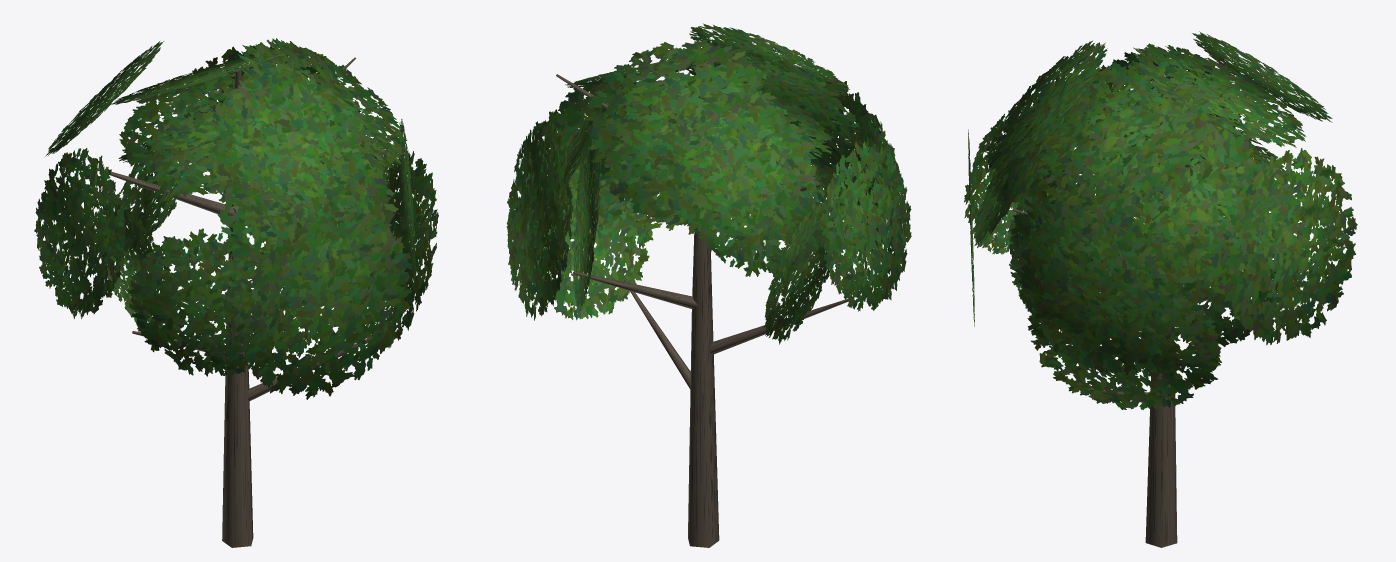
The model's file is Oak_LOD1.fbx.
The picture shows the model from 3 angles, left to right: view 1: azimuth 30°, elevation 25°; view 2: azimuth 150°, elevation 25°; view 3: azimuth 270°, elevation 25°; orthographic projection.
Visible parts, largest first — view 1: Oak_LOD1; view 2: Oak_LOD1; view 3: Oak_LOD1.
Boxes of the visible parts, x1,y1,x2,y2 form: Oak_LOD1: [34, 38, 438, 547]; Oak_LOD1: [506, 23, 911, 547]; Oak_LOD1: [964, 31, 1357, 547].
Bounding box in the file's own units: 11.5 × 15.16 × 11.76.
Materials: 1 (1 with a texture image).
